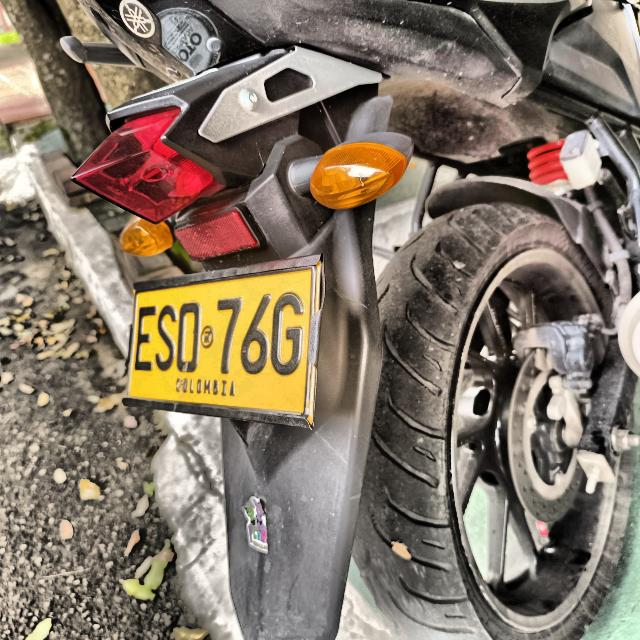plate: (126, 262, 317, 422)
